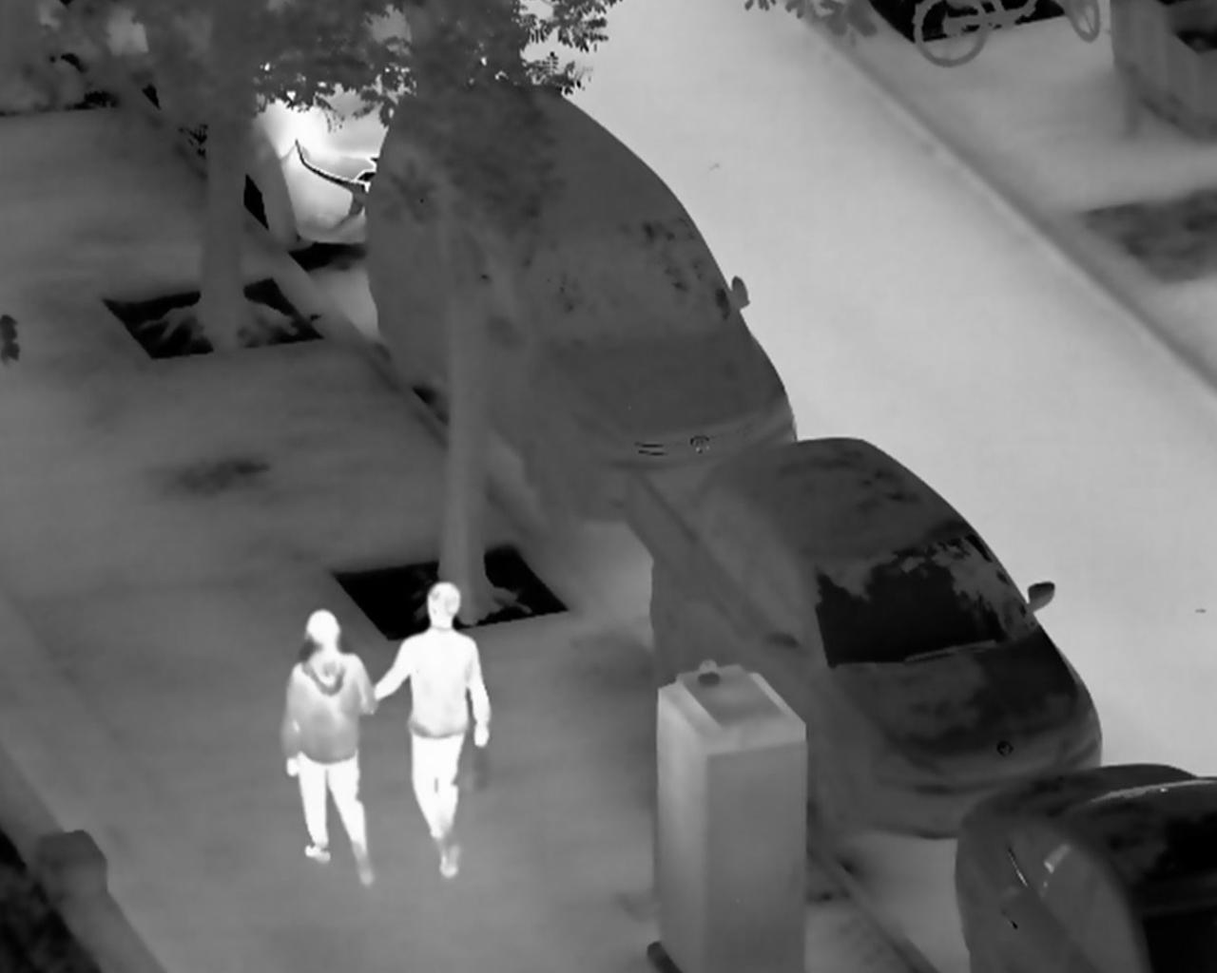person: (375, 578, 493, 883), (278, 608, 380, 892)
